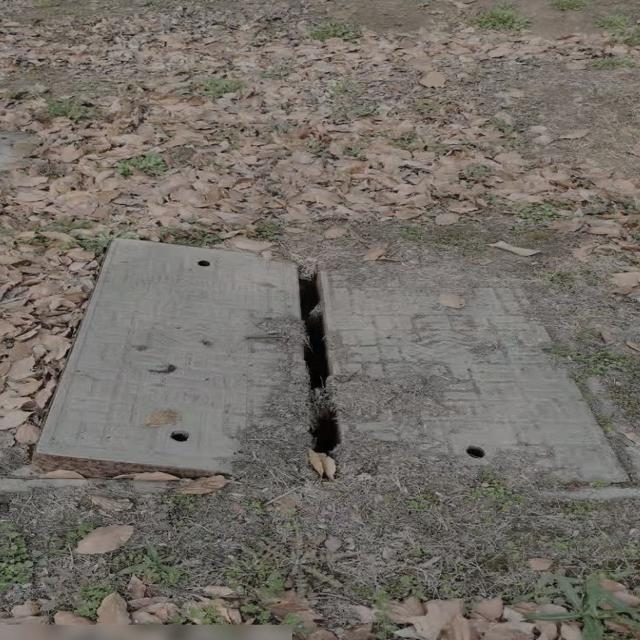uncovered: (0, 236, 640, 500)
